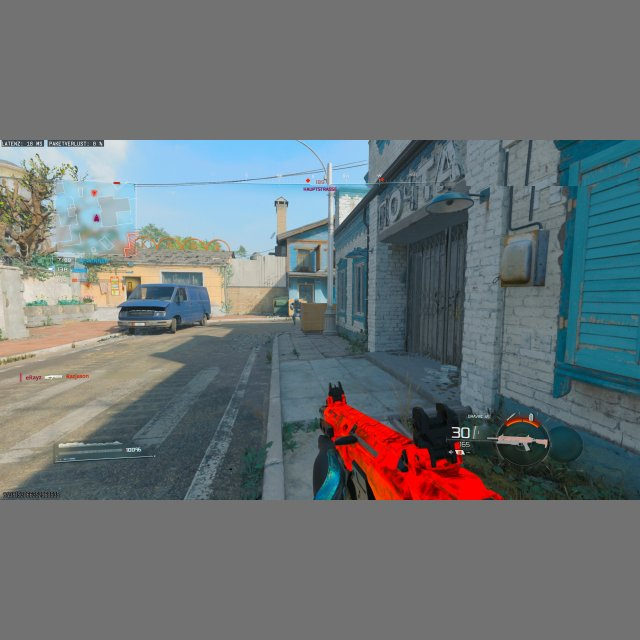player: (289, 297, 301, 327)
